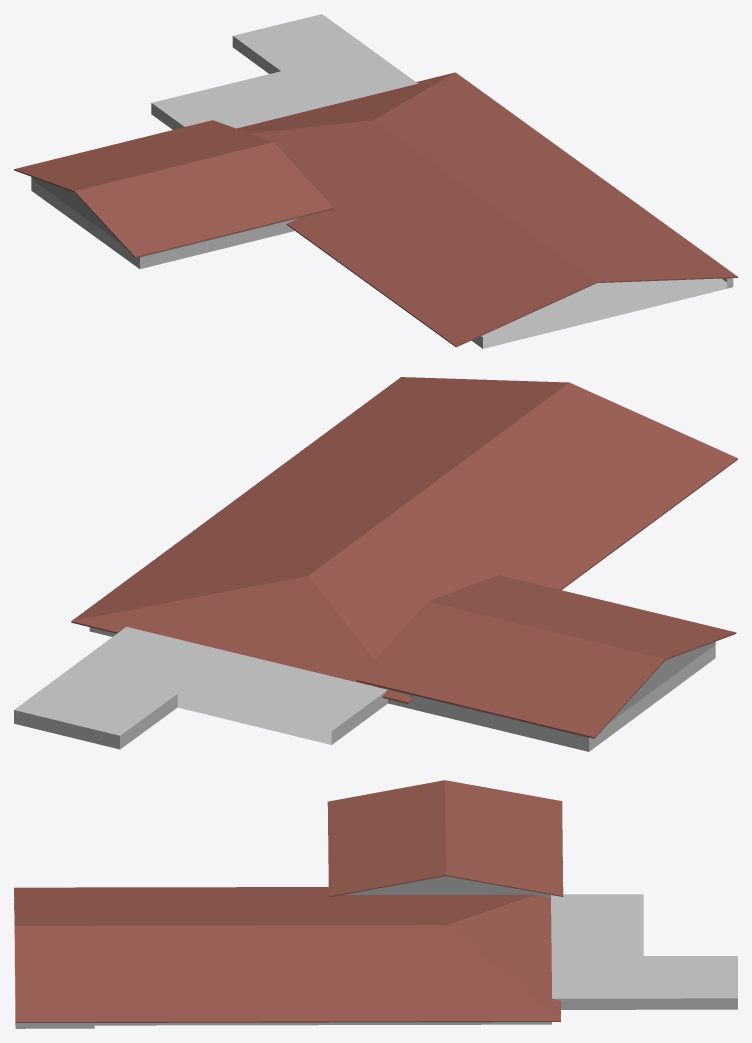
Rendered from floor2.glb.
3 views of the same model, one above another, from view 1: azimuth 30°, elevation 25°; view 2: azimuth 150°, elevation 25°; view 3: azimuth 270°, elevation 25° (orthographic). The views are drawn at different scales.
Visible parts, largest first — view 1: IfcBuildingElementProxy/Cobert.-008.003, IfcSlab/L10.003, IfcWallStandardCase/Parede-036.002; view 2: IfcBuildingElementProxy/Cobert.-008.003, IfcSlab/L10.003, IfcWallStandardCase/Parede-036.002; view 3: IfcBuildingElementProxy/Cobert.-008.003, IfcSlab/L10.003, IfcWallStandardCase/Parede-036.002.
Part boxes in pixels (x1,y1,x2,y2): IfcBuildingElementProxy/Cobert.-008.003: [14, 72, 737, 347]; IfcSlab/L10.003: [31, 14, 733, 348]; IfcWallStandardCase/Parede-036.002: [31, 177, 299, 257]; IfcBuildingElementProxy/Cobert.-008.003: [71, 377, 737, 738]; IfcSlab/L10.003: [14, 627, 715, 751]; IfcWallStandardCase/Parede-036.002: [377, 641, 715, 737]; IfcBuildingElementProxy/Cobert.-008.003: [14, 780, 563, 1022]; IfcSlab/L10.003: [14, 894, 737, 1028]; IfcWallStandardCase/Parede-036.002: [344, 876, 550, 898].
Size of the model in its own units: 20.11 by 1.79 by 29.19.
